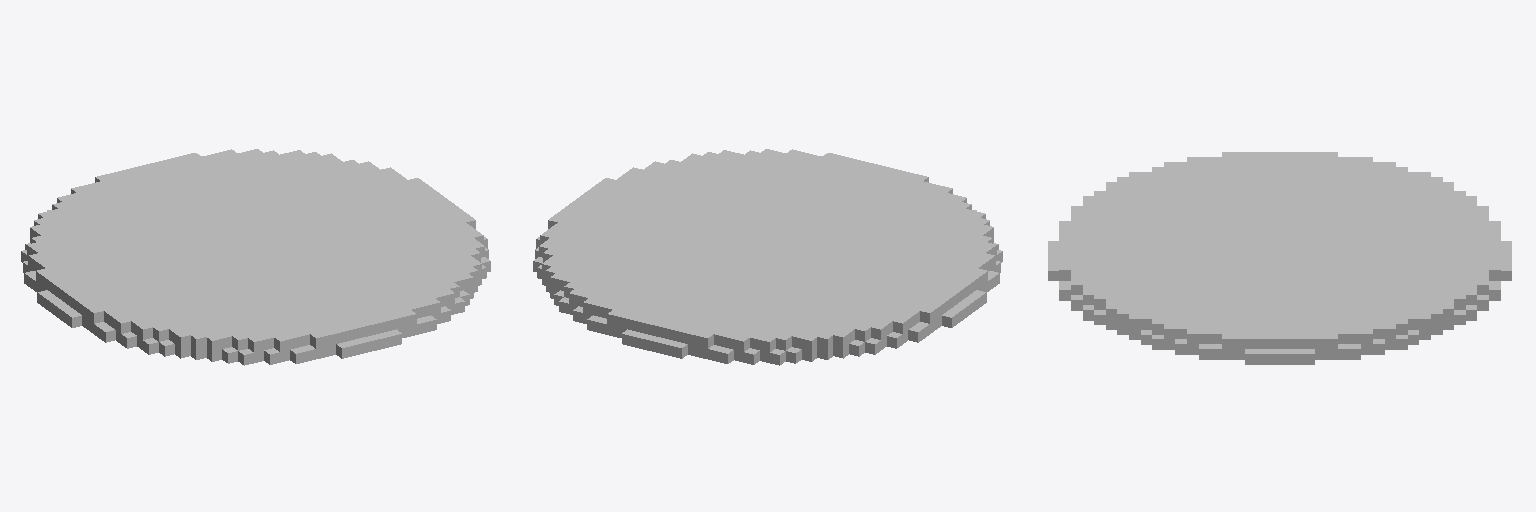
The model's file is button 3 for objects.obj.
3 renders of one model, left to right at view 1: azimuth 30°, elevation 25°; view 2: azimuth 150°, elevation 25°; view 3: azimuth 270°, elevation 25°, orthographic.
Parts seen in each view (by area): view 1: object 1; view 2: object 1; view 3: object 1.
Boxes of the visible parts, box(x1,y1,x2,y2) form: object 1: box(21, 149, 490, 365); object 1: box(533, 149, 1002, 365); object 1: box(1048, 152, 1511, 364).
Bounding box in the file's own units: 4 × 0.2 × 4.